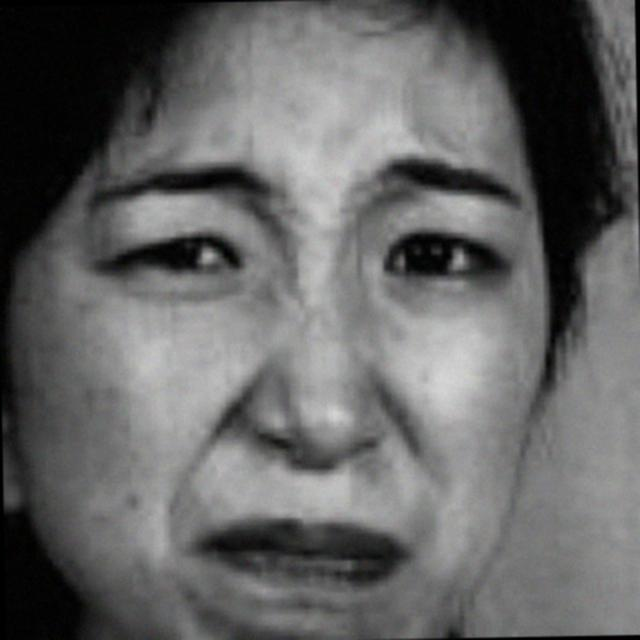disgust: (77, 29, 615, 631)
